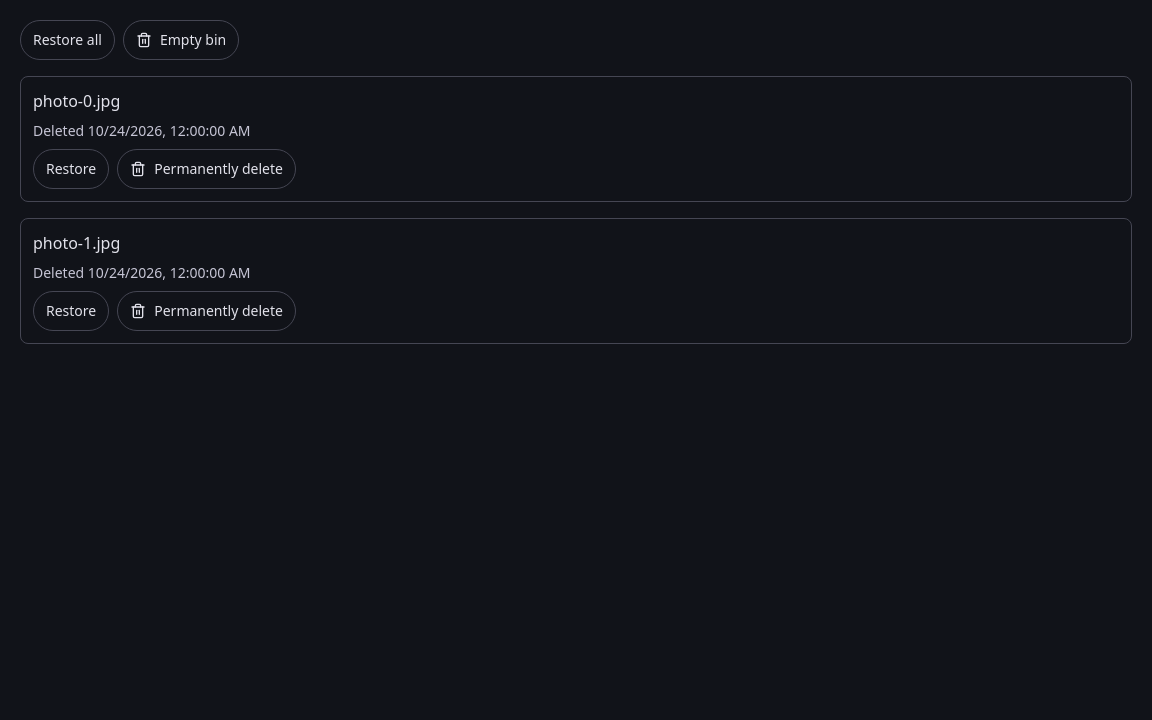
Test: permanent deletion uses a separate confirmation and removes admitted rows immediately
Click the button "Permanently delete" below "photo-0.jpg".
click(207, 169)  # box [117,149,296,189]
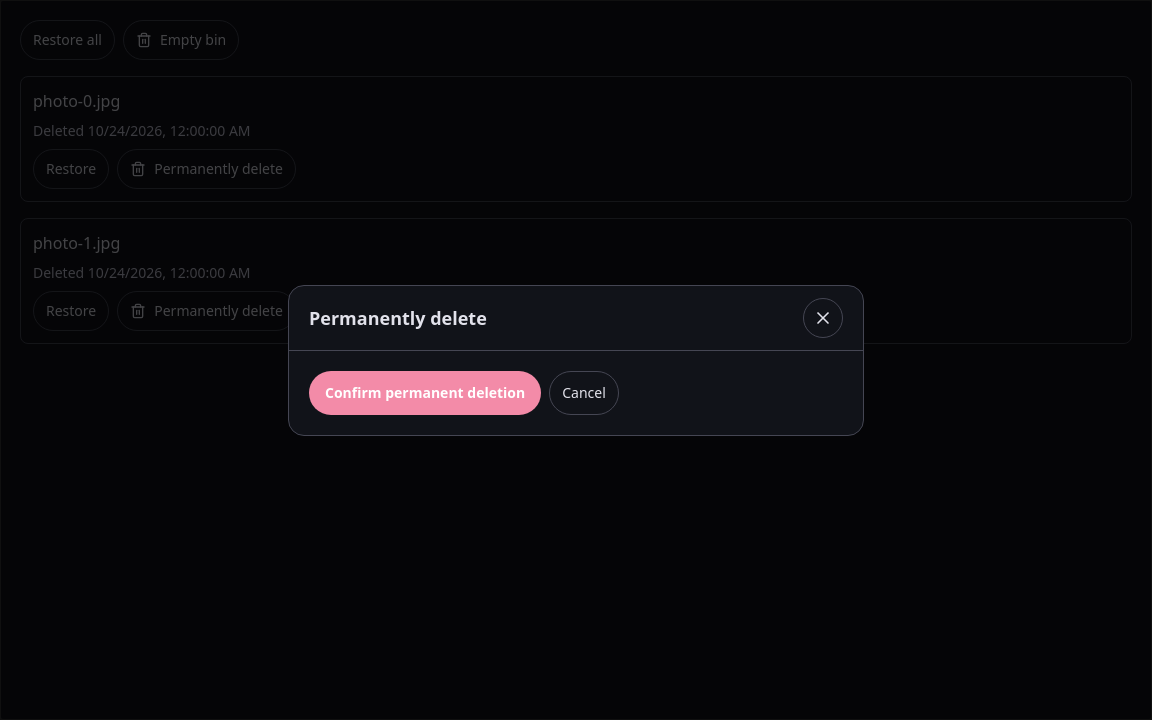
Click the button "Confirm permanent deletion".
click(425, 392)  # box [309,370,541,414]
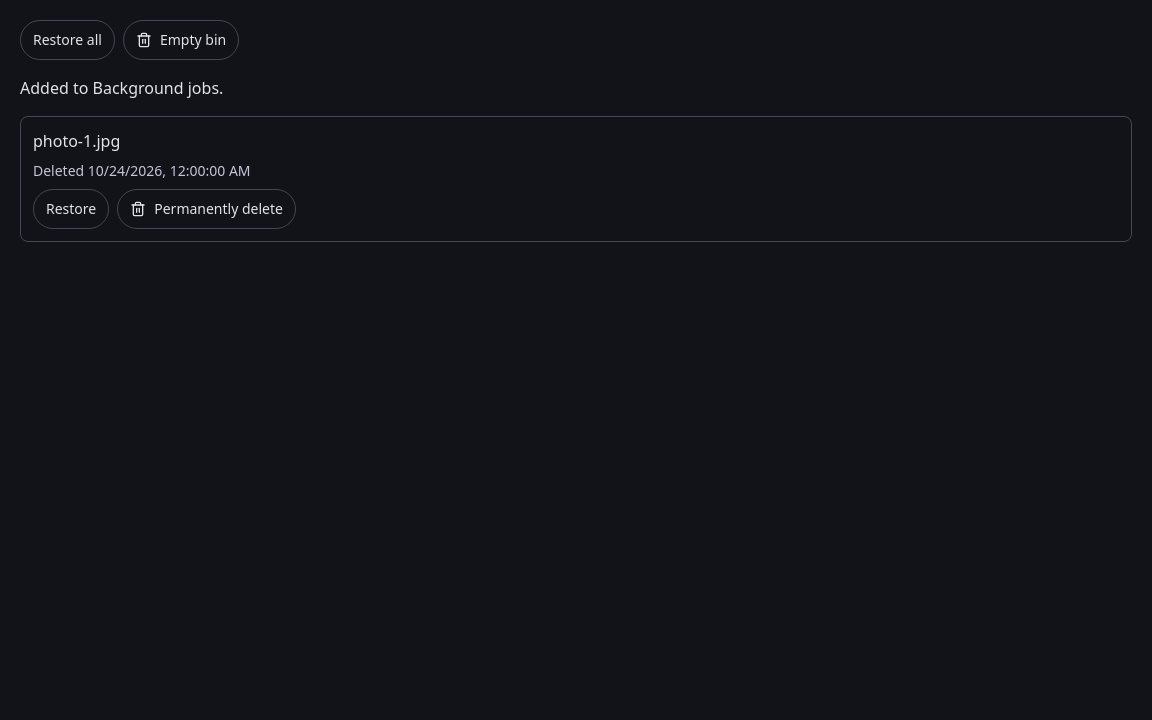
Expected: the text "photo-1.jpg" is shown, [33,130,120,152]
Result: the text "photo-0.jpg" is gone
